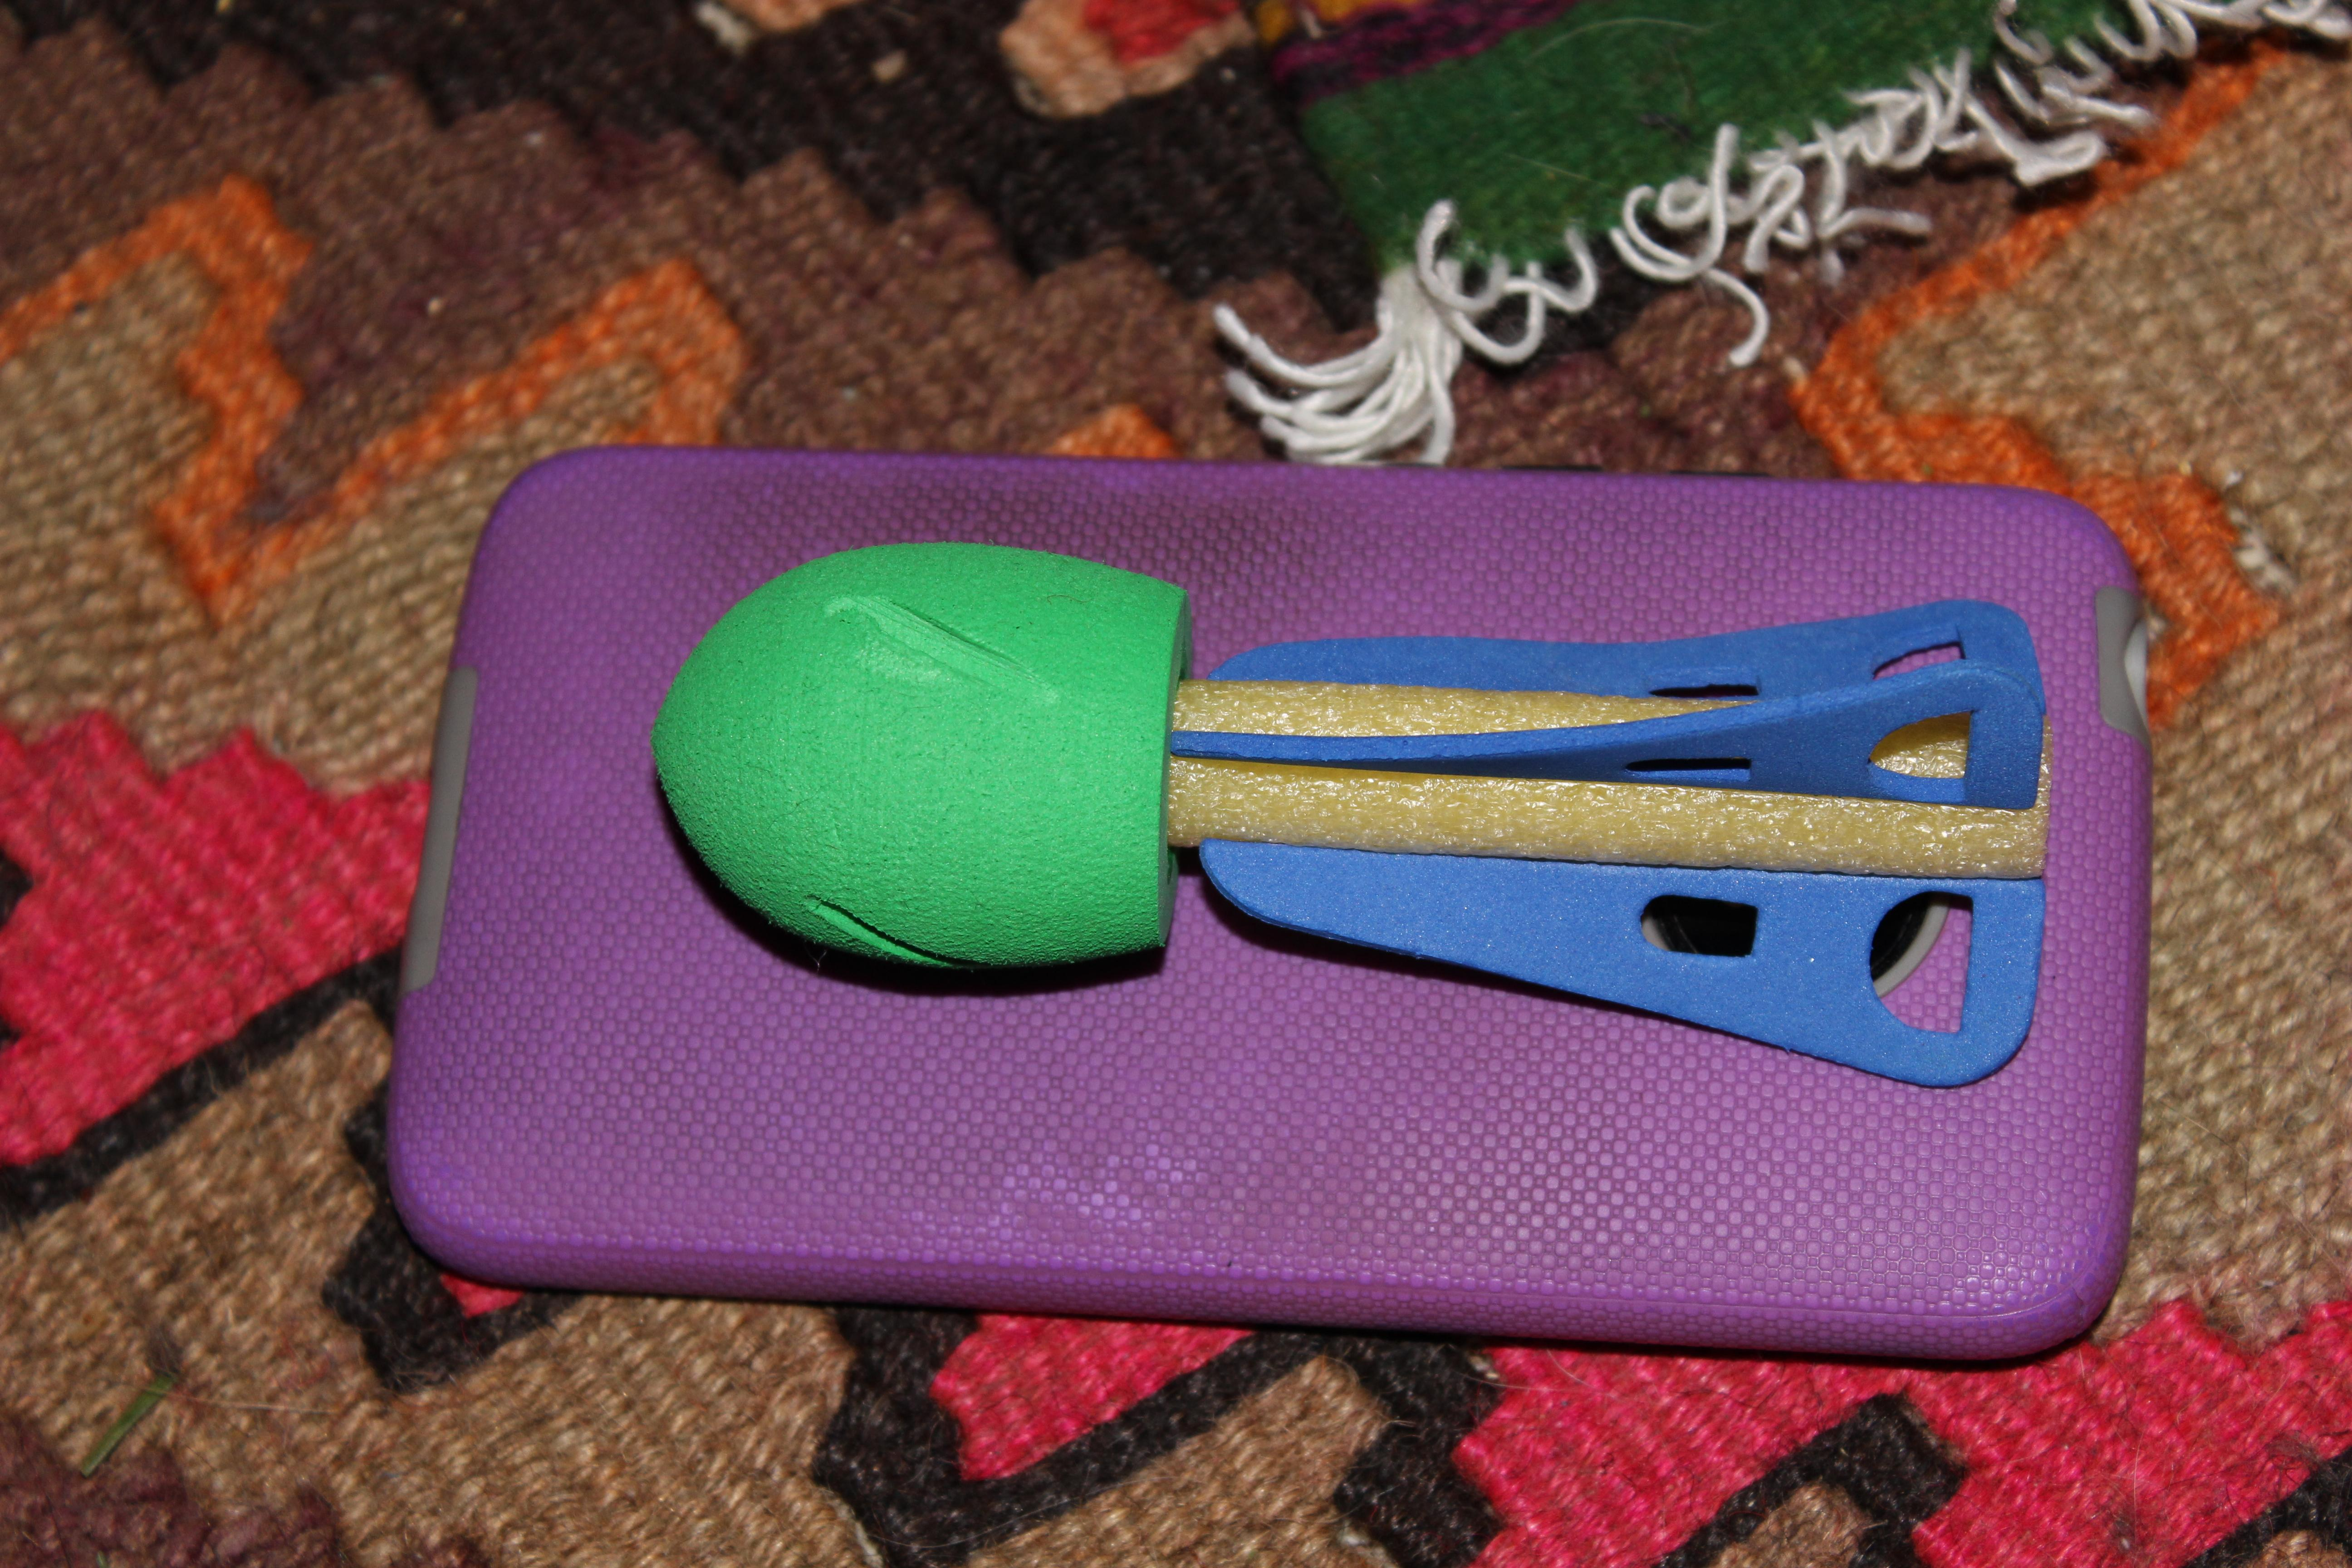foamDart: (633, 492, 2082, 1129)
